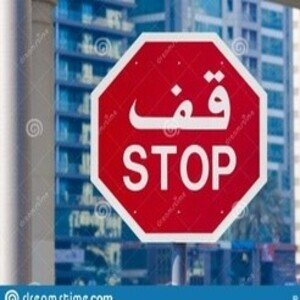stop: (91, 31, 267, 244)
